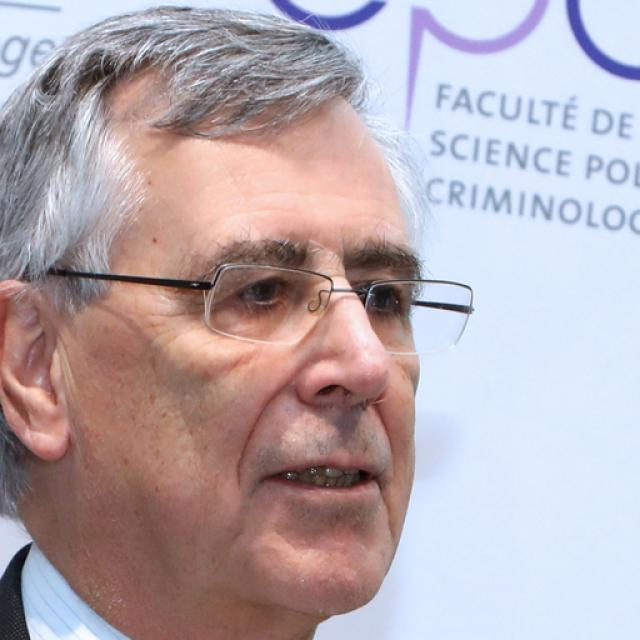0_rostro_limpio: (0, 9, 417, 613)
